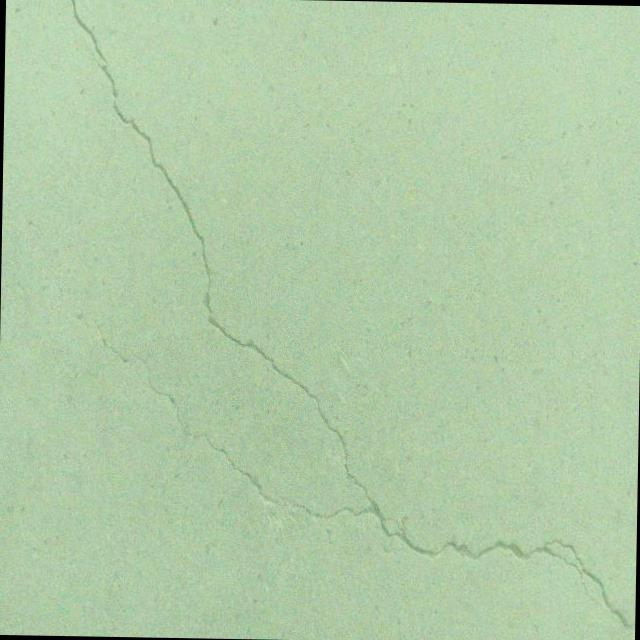crack: (55, 0, 640, 628), (63, 293, 129, 362)
